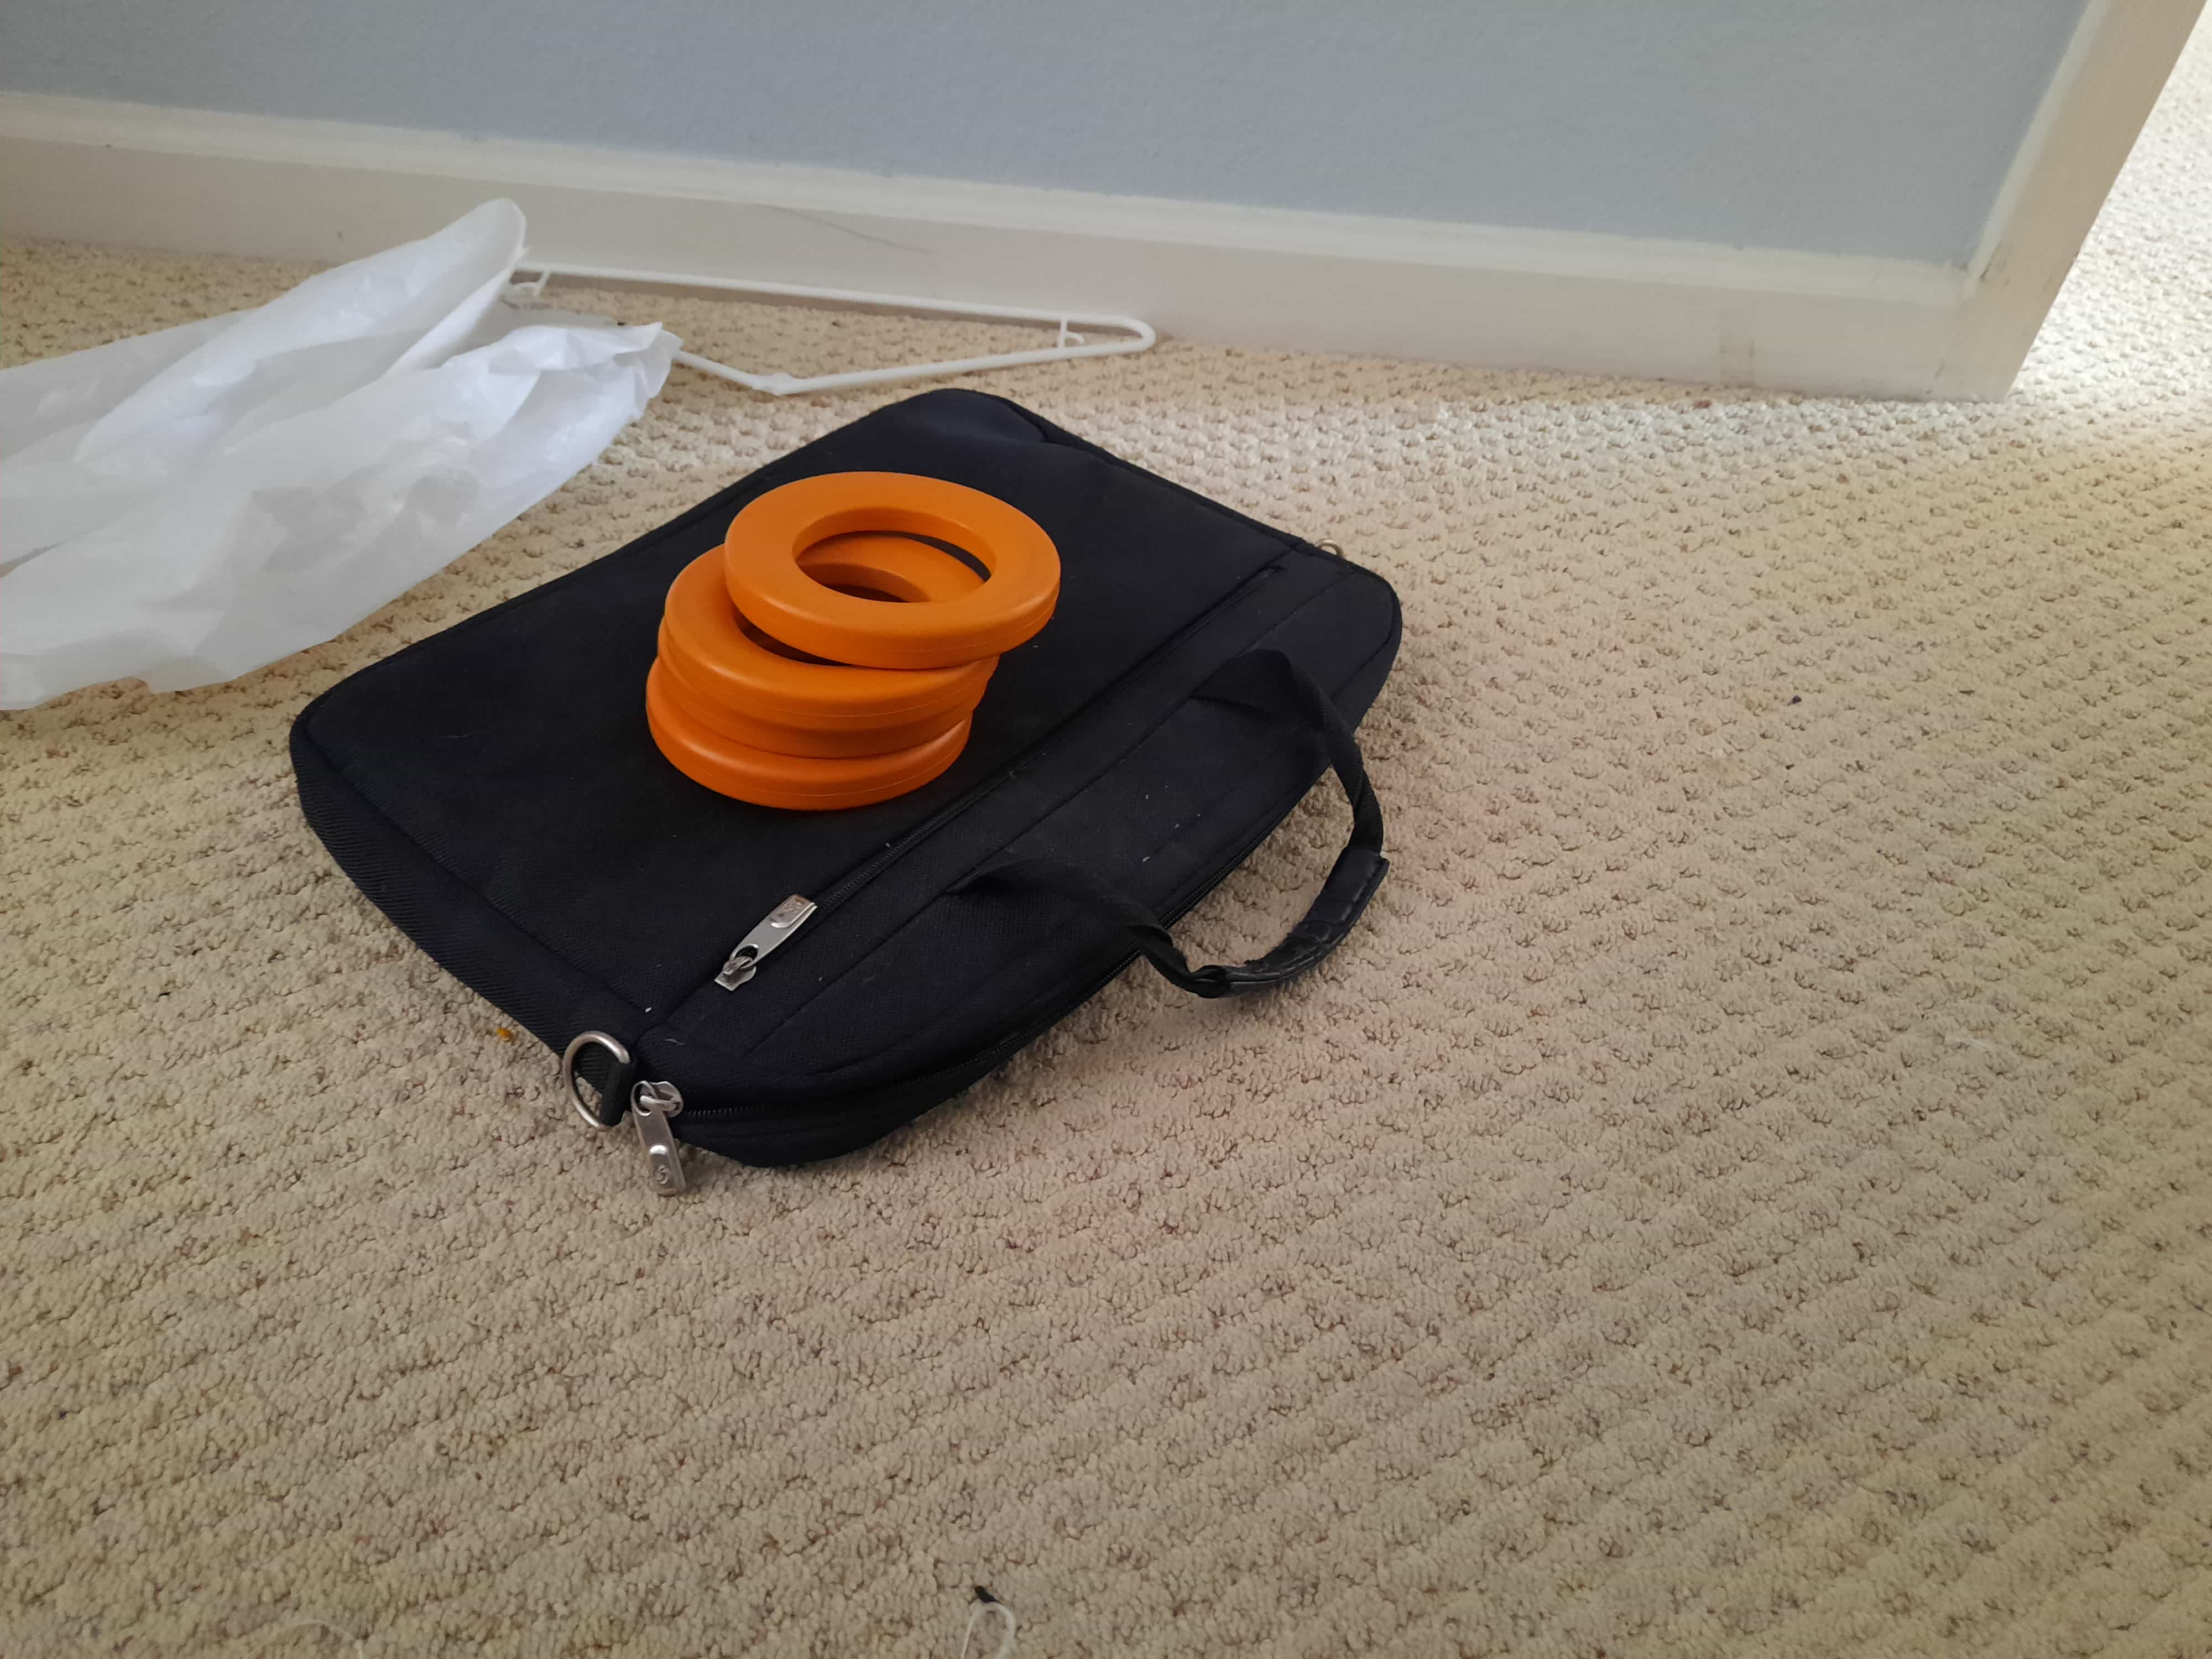FourStack: (658, 474, 1059, 812)
